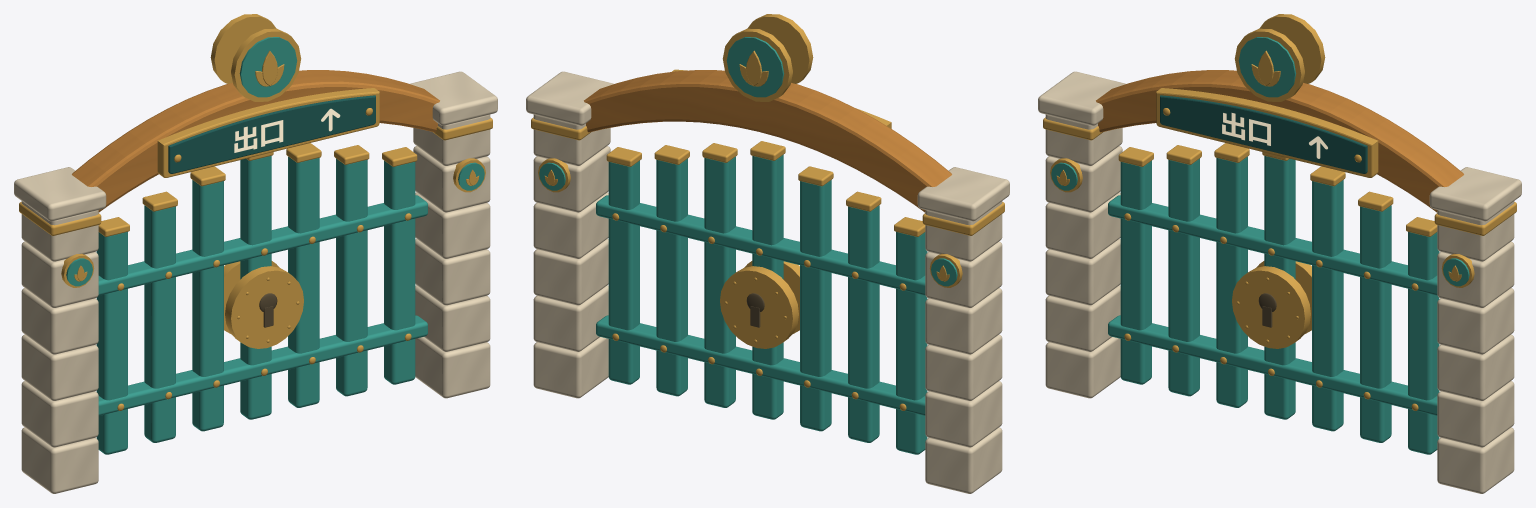
The model's file is garden-exit-gate.glb.
3 views of the same model, side by side, from view 1: azimuth 30°, elevation 25°; view 2: azimuth 150°, elevation 25°; view 3: azimuth 330°, elevation 25° (orthographic).
Visible parts, largest first — view 1: gate-grille-tree-bench-leaf, gate-frame-tree-bench-stone, gate-frame-tree-bench-wood, gate-grille-tree-bench-brass, exit-nameplate-garden-exit-enamel, gate-frame-tree-bench-brass, exit-nameplate-tree-bench-brass, gate-frame-tree-bench-leaf, exit-nameplate-text; view 2: gate-grille-tree-bench-leaf, gate-frame-tree-bench-stone, gate-frame-tree-bench-wood, gate-grille-tree-bench-brass, gate-frame-tree-bench-brass, gate-frame-tree-bench-leaf; view 3: gate-grille-tree-bench-leaf, gate-frame-tree-bench-stone, gate-frame-tree-bench-wood, gate-grille-tree-bench-brass, exit-nameplate-garden-exit-enamel, gate-frame-tree-bench-brass, exit-nameplate-tree-bench-brass, gate-frame-tree-bench-leaf, exit-nameplate-text.
Part boxes in pixels (box(x1,y1,x2,y2)): gate-grille-tree-bench-leaf: box(96, 156, 427, 454); gate-frame-tree-bench-stone: box(14, 71, 497, 493); gate-frame-tree-bench-wood: box(72, 70, 439, 212); gate-grille-tree-bench-brass: box(98, 143, 417, 410); exit-nameplate-garden-exit-enamel: box(168, 95, 375, 173); gate-frame-tree-bench-brass: box(19, 14, 492, 287); exit-nameplate-tree-bench-brass: box(157, 88, 379, 177); gate-frame-tree-bench-leaf: box(66, 37, 484, 286); exit-nameplate-text: box(234, 108, 340, 152); gate-grille-tree-bench-leaf: box(596, 154, 927, 454); gate-frame-tree-bench-stone: box(526, 71, 1009, 493); gate-frame-tree-bench-wood: box(584, 70, 951, 212); gate-grille-tree-bench-brass: box(606, 141, 925, 410); gate-frame-tree-bench-brass: box(531, 14, 1004, 287); gate-frame-tree-bench-leaf: box(539, 37, 957, 286); gate-grille-tree-bench-leaf: box(1108, 156, 1439, 454); gate-frame-tree-bench-stone: box(1038, 71, 1521, 493); gate-frame-tree-bench-wood: box(1096, 70, 1463, 212); gate-grille-tree-bench-brass: box(1118, 143, 1437, 410); exit-nameplate-garden-exit-enamel: box(1160, 95, 1367, 173); gate-frame-tree-bench-brass: box(1043, 14, 1516, 287); exit-nameplate-tree-bench-brass: box(1156, 88, 1378, 177); gate-frame-tree-bench-leaf: box(1051, 37, 1469, 286); exit-nameplate-text: box(1222, 113, 1327, 158).
Size of the model in its own units: 5.17 by 4.47 by 0.8362.
7 materials, 3 textured.
